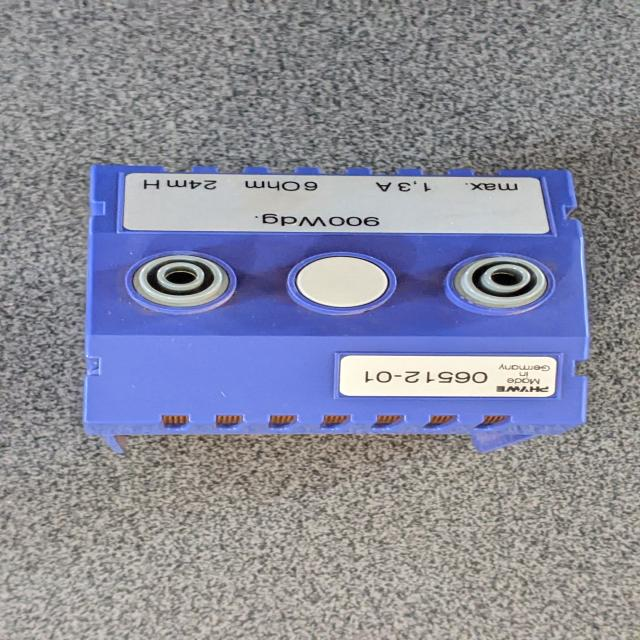Solenoid: (55, 158, 626, 458)
